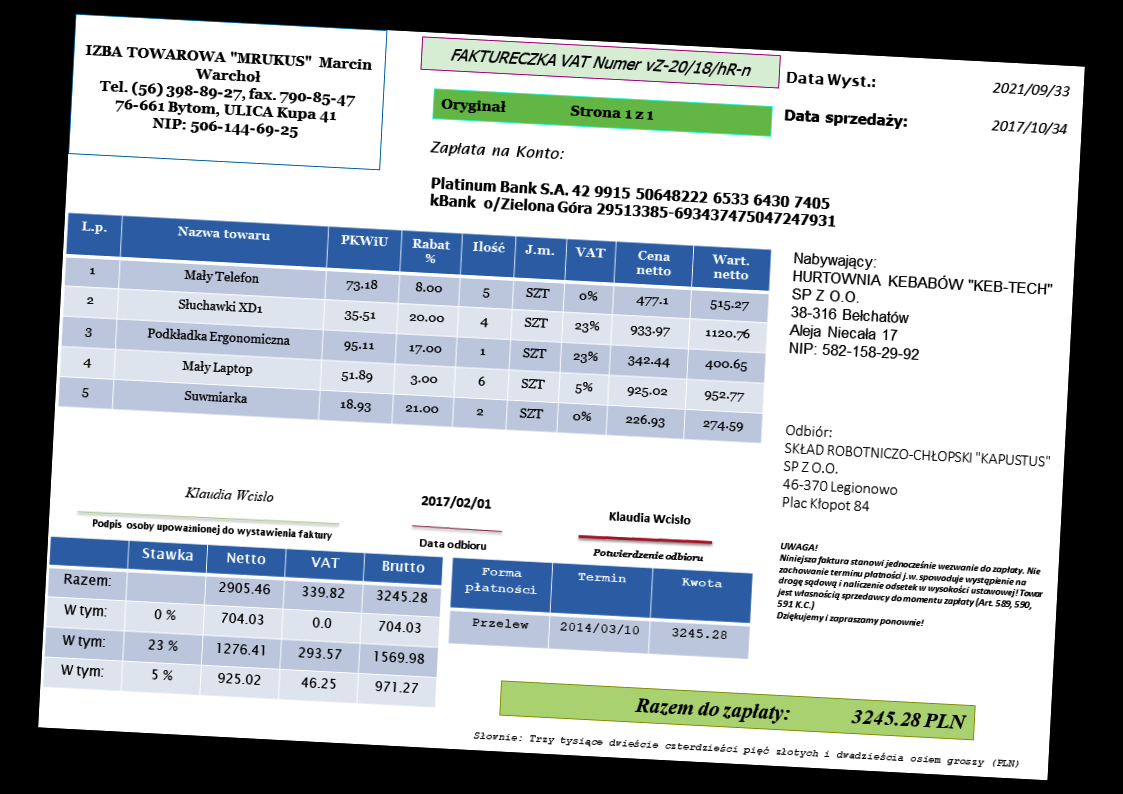Table: (57, 211, 773, 445), (41, 535, 443, 709), (446, 555, 755, 661)
TextBox: (787, 249, 1057, 370), (78, 39, 374, 146), (779, 421, 1055, 526), (773, 538, 1049, 638), (470, 728, 1023, 771), (426, 174, 838, 230), (633, 694, 968, 736), (447, 44, 755, 81), (438, 92, 657, 125), (90, 516, 336, 544), (428, 136, 567, 165), (780, 104, 911, 133), (785, 67, 879, 93), (590, 545, 706, 565), (182, 482, 276, 505), (990, 77, 1071, 102), (989, 115, 1069, 138), (605, 508, 692, 528), (417, 491, 495, 513), (416, 535, 487, 553)
